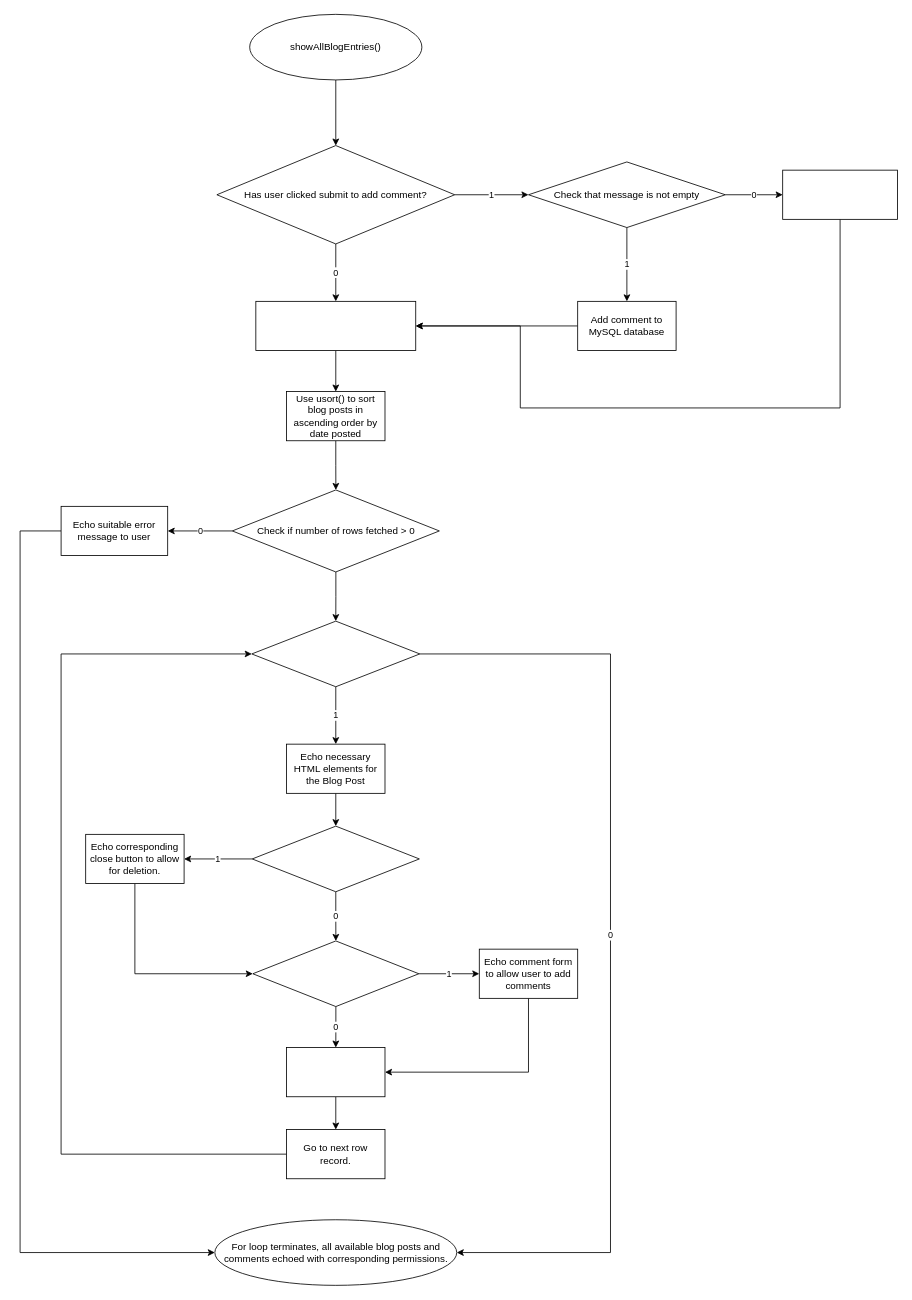
This 912x1300 diagram has some shape labels left out. The shapes that lost their labels are listed below. From the top down, each one's box as (x1, y1, x2, y2) in pixels, then its label:
(782, 169, 897, 219): Don't add comment to database
(255, 301, 416, 351): Fetch records of blog posts from database and get number of records fetched
(251, 620, 420, 687): Does next row (record) exist?
(251, 825, 419, 892): Check if admin is enabled
(252, 940, 419, 1007): Check if user is logged in
(286, 1047, 385, 1097): Echo all accompanying comments relative to the blog post
